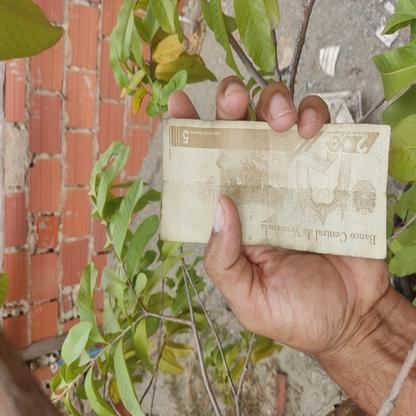vef_back: (159, 118, 391, 258)
